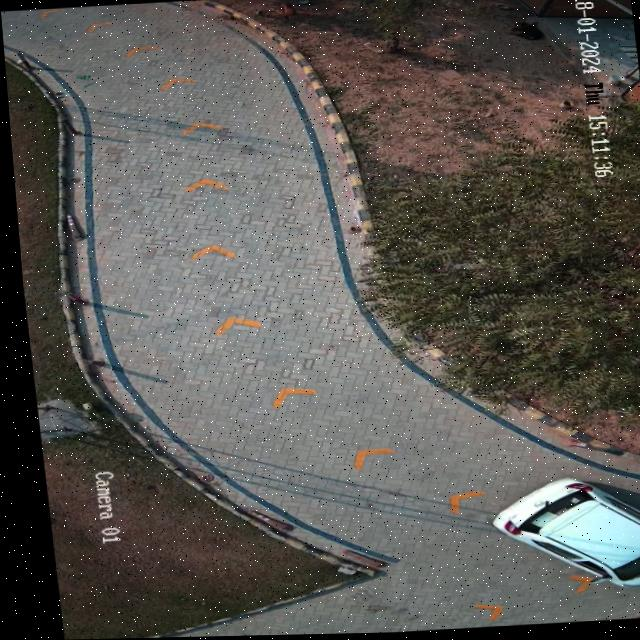car: (481, 478, 640, 591)
